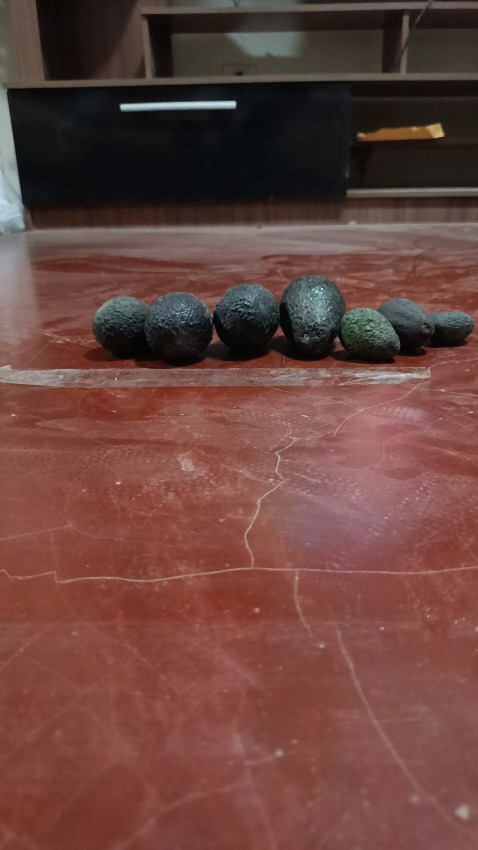Primera: (278, 275, 345, 357), (143, 291, 213, 365), (213, 282, 280, 354), (92, 295, 151, 357)
Segunda: (338, 306, 399, 361), (376, 297, 433, 353)
Tercera: (428, 311, 474, 347)
